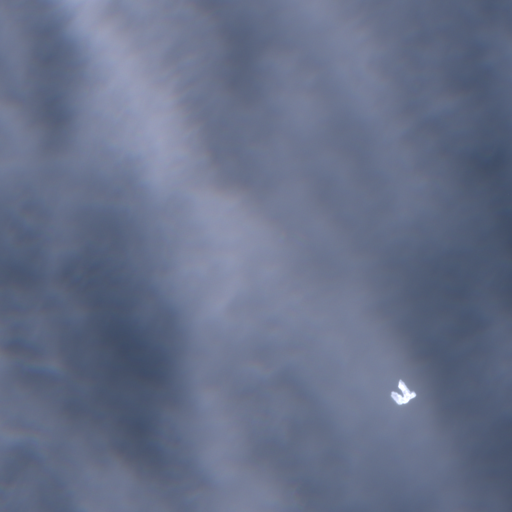Iceberg: (391, 379, 416, 404)
